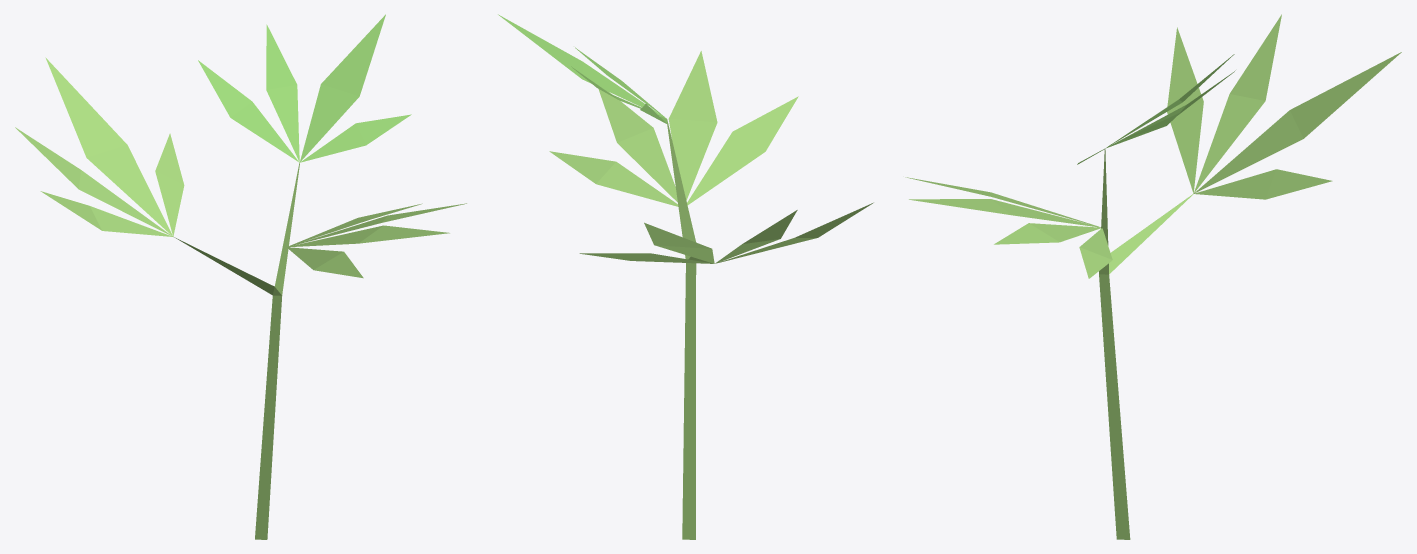
The model's file is Plant_i_TwoS_07.fbx.
The picture shows the model from 3 angles, left to right: view 1: azimuth 30°, elevation 25°; view 2: azimuth 150°, elevation 25°; view 3: azimuth 270°, elevation 25°; orthographic projection. The views are drawn at different scales.
Visible parts, largest first — view 1: Plant_i_TwoS_07; view 2: Plant_i_TwoS_07; view 3: Plant_i_TwoS_07.
Part boxes in pixels (x1,y1,x2,y2): Plant_i_TwoS_07: [15, 14, 466, 539]; Plant_i_TwoS_07: [498, 14, 873, 539]; Plant_i_TwoS_07: [905, 14, 1401, 539].
Size of the model in its own units: 0.3966 by 0.51 by 0.4562.
